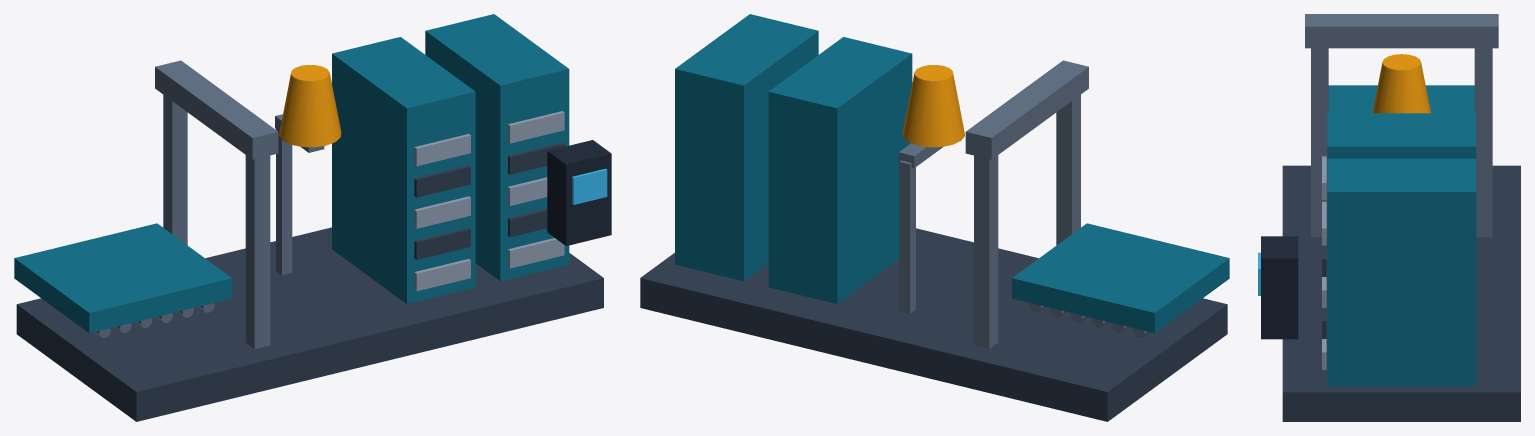
The picture shows the model from 3 angles, left to right: view 1: azimuth 30°, elevation 25°; view 2: azimuth 150°, elevation 25°; view 3: azimuth 270°, elevation 25°; orthographic projection.
Parts seen in each view (by area): view 1: support_base, feeder_3, feeder_4, conveyor_0, gantry_bridge_1, operator_console, gantry_upright_1_0.55, head_2, gantry_upright_1_-0.55, head_support_2, feeder_drawer_4_4, feeder_drawer_3_1 (+9 smaller); view 2: support_base, feeder_3, feeder_4, conveyor_0, gantry_bridge_1, gantry_upright_1_-0.55, head_2, gantry_upright_1_0.55, head_support_2, head_arm_2; view 3: feeder_4, support_base, feeder_3, gantry_bridge_1, operator_console, gantry_upright_1_-0.55, gantry_upright_1_0.55, head_2, conveyor_0.
Boxes of the visible parts, bbox=[...] form: support_base: bbox=[16, 227, 603, 421]; feeder_3: bbox=[332, 37, 475, 303]; feeder_4: bbox=[425, 14, 569, 281]; conveyor_0: bbox=[14, 223, 232, 333]; gantry_bridge_1: bbox=[155, 60, 278, 159]; operator_console: bbox=[547, 140, 611, 245]; gantry_upright_1_0.55: bbox=[245, 155, 270, 349]; head_2: bbox=[279, 65, 341, 147]; gantry_upright_1_-0.55: bbox=[163, 95, 187, 245]; head_support_2: bbox=[276, 129, 292, 275]; feeder_drawer_4_4: bbox=[508, 111, 564, 143]; feeder_drawer_3_1: bbox=[414, 227, 470, 259]; support_base: bbox=[640, 228, 1227, 421]; feeder_3: bbox=[768, 37, 912, 303]; feeder_4: bbox=[675, 14, 818, 281]; conveyor_0: bbox=[1012, 223, 1229, 333]; gantry_bridge_1: bbox=[965, 60, 1088, 159]; gantry_upright_1_-0.55: bbox=[974, 155, 998, 349]; head_2: bbox=[902, 65, 964, 147]; gantry_upright_1_0.55: bbox=[1056, 94, 1080, 245]; head_support_2: bbox=[899, 160, 915, 313]; head_arm_2: bbox=[898, 143, 943, 168]; feeder_4: bbox=[1327, 158, 1476, 386]; support_base: bbox=[1282, 165, 1520, 421]; feeder_3: bbox=[1327, 113, 1476, 158]; gantry_bridge_1: bbox=[1305, 14, 1498, 48]; operator_console: bbox=[1261, 236, 1298, 339]; gantry_upright_1_-0.55: bbox=[1474, 48, 1492, 237]; gantry_upright_1_0.55: bbox=[1311, 48, 1328, 237]; head_2: bbox=[1372, 54, 1430, 113]; conveyor_0: bbox=[1328, 85, 1474, 113].
Bounding box in the file's own units: 3.79 × 1.82 × 1.77.
